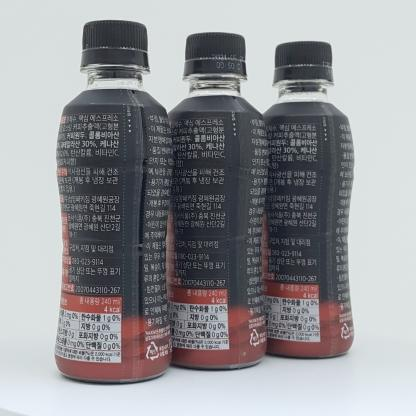--TOP--------240ML: (54, 19, 173, 385), (164, 32, 268, 373), (254, 41, 354, 359)
